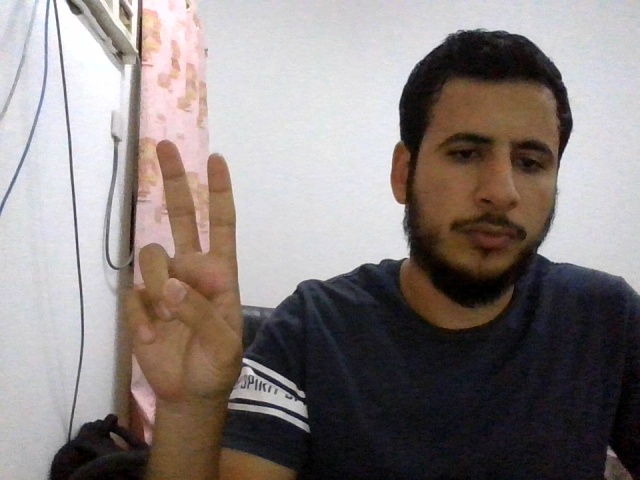Two: (123, 140, 243, 394)
